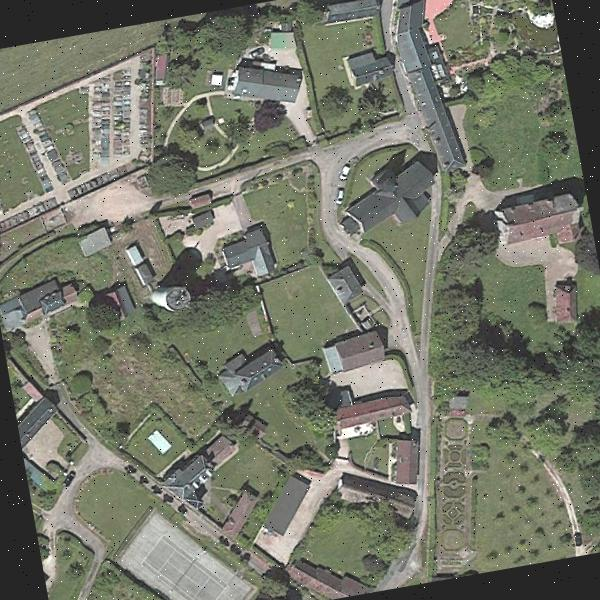Buildings: (340, 168, 430, 236), (172, 432, 243, 516), (491, 188, 586, 248), (0, 278, 77, 326), (224, 340, 282, 402), (230, 59, 300, 105), (324, 332, 389, 374), (221, 229, 274, 280), (342, 42, 398, 85), (335, 398, 411, 424), (384, 438, 423, 484), (549, 274, 580, 323)
